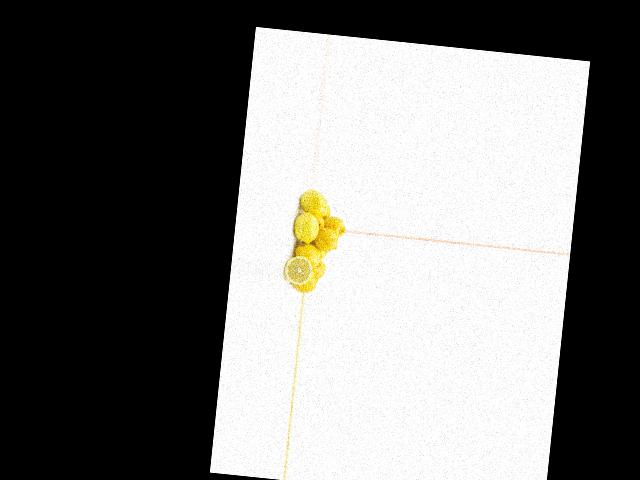lemon: (292, 268, 317, 292)
